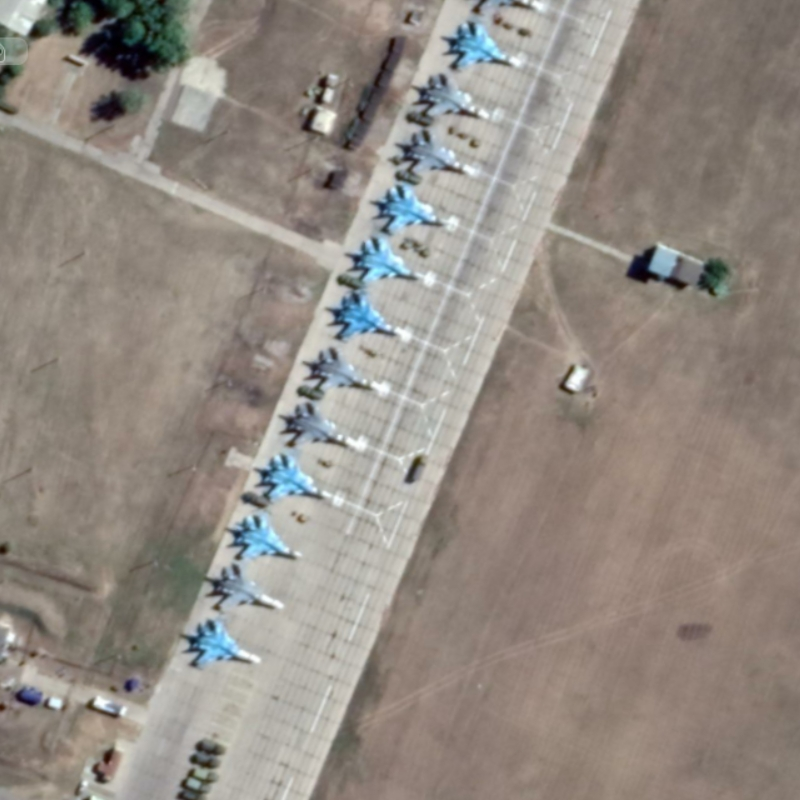A19: (203, 557, 285, 619), (299, 341, 385, 400), (275, 398, 364, 454), (393, 125, 478, 181), (328, 287, 411, 344), (253, 449, 337, 505), (440, 17, 525, 72), (346, 234, 429, 289), (410, 72, 496, 125), (185, 616, 262, 675), (368, 181, 453, 234), (227, 510, 303, 566)
